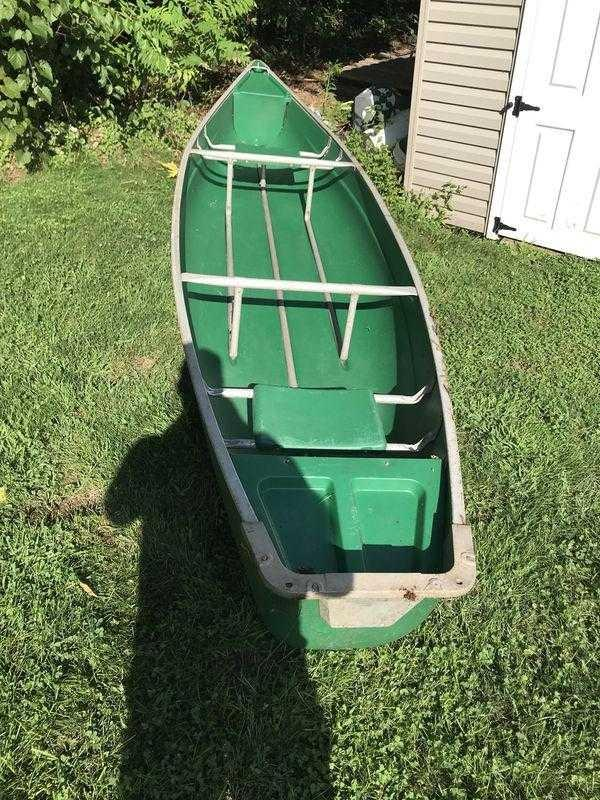kayak: (169, 59, 483, 649)
